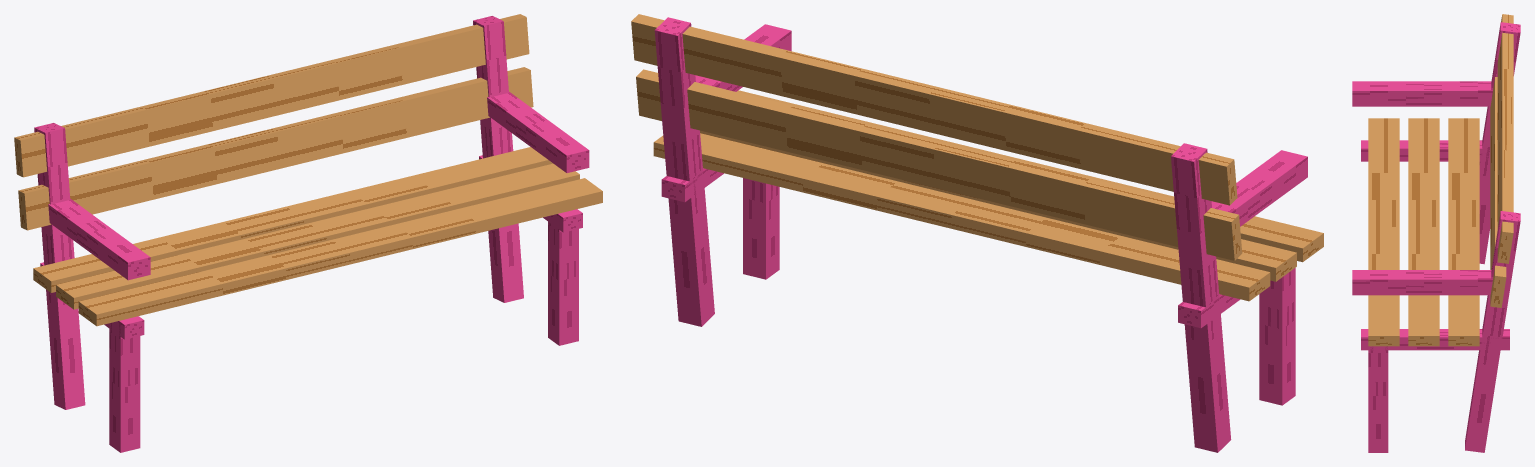
File: Bench.fbx
The picture shows the model from 3 angles, left to right: view 1: azimuth 30°, elevation 25°; view 2: azimuth 150°, elevation 25°; view 3: azimuth 270°, elevation 25°; orthographic projection. The views are drawn at different scales.
Parts seen in each view (by area): view 1: Bench back slat 1, Bench back slat 0, Bench slat 0, Bench slat 1, Bench slat 2, Bench leg back -1, Bench leg back 1, Bench leg front -1, Bench arm 1, Bench arm -1, Bench leg front 1, Bench seat rail 1 (+1 smaller); view 2: Bench back slat 1, Bench back slat 0, Bench slat 2, Bench leg back 1, Bench leg back -1, Bench leg front -1, Bench leg front 1, Bench slat 0, Bench arm -1, Bench slat 1, Bench arm 1, Bench seat rail -1 (+1 smaller); view 3: Bench slat 0, Bench slat 1, Bench slat 2, Bench leg back 1, Bench back slat 1, Bench arm -1, Bench arm 1, Bench leg front 1, Bench leg back -1, Bench back slat 0, Bench seat rail 1, Bench seat rail -1.
Part boxes in pixels (x1,y1,x2,y2): Bench back slat 1: (14, 14, 529, 177); Bench back slat 0: (18, 67, 533, 230); Bench slat 0: (78, 178, 602, 326); Bench slat 1: (56, 163, 579, 309); Bench slat 2: (33, 147, 552, 292); Bench leg back -1: (34, 123, 85, 409); Bench leg back 1: (473, 16, 523, 302); Bench leg front -1: (109, 321, 140, 452); Bench arm 1: (487, 92, 589, 172); Bench arm -1: (48, 199, 150, 280); Bench leg front 1: (548, 222, 578, 345); Bench seat rail 1: (479, 155, 582, 232); Bench back slat 1: (631, 14, 1237, 205); Bench back slat 0: (636, 69, 1242, 260); Bench slat 2: (653, 133, 1270, 301); Bench leg back 1: (654, 17, 714, 326); Bench leg back -1: (1171, 143, 1231, 452); Bench leg front -1: (1259, 268, 1295, 405); Bench leg front 1: (743, 178, 779, 279); Bench slat 0: (736, 90, 1323, 262); Bench arm -1: (1211, 150, 1307, 226); Bench slat 1: (700, 130, 1296, 281); Bench arm 1: (695, 24, 791, 91); Bench seat rail -1: (1178, 294, 1240, 328); Bench slat 0: (1368, 118, 1399, 346); Bench slat 1: (1408, 118, 1439, 346); Bench slat 2: (1448, 118, 1479, 346); Bench leg back 1: (1465, 211, 1520, 452); Bench back slat 1: (1497, 14, 1513, 263); Bench arm -1: (1352, 81, 1492, 106); Bench arm 1: (1352, 270, 1492, 295); Bench leg front 1: (1368, 346, 1388, 452); Bench leg back -1: (1479, 22, 1520, 264); Bench back slat 0: (1490, 77, 1506, 307); Bench seat rail 1: (1361, 329, 1509, 350); Bench seat rail -1: (1361, 140, 1490, 161).
Size of the model in its own units: 1.8 by 0.901 by 0.5873.
Materials: 2 (2 with a texture image).
